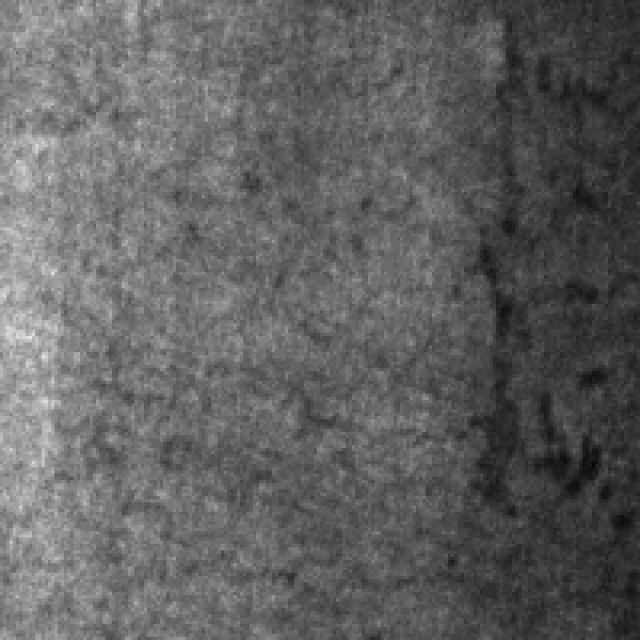crazing: (83, 365, 461, 589), (464, 6, 618, 522)
